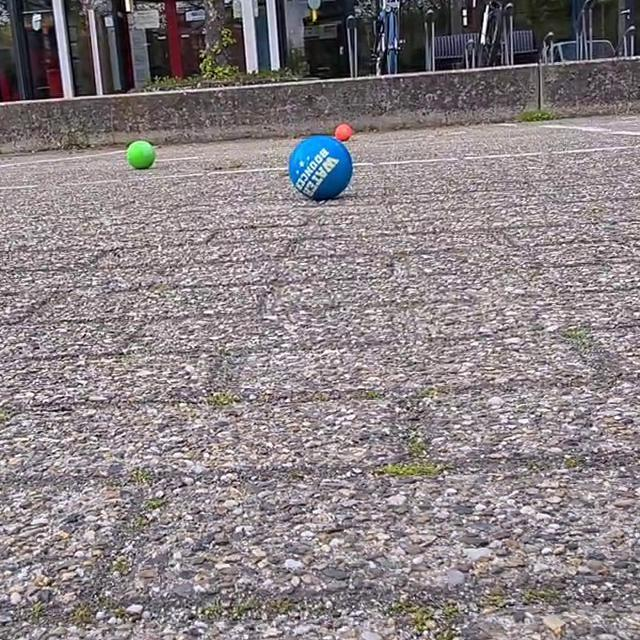ball: (128, 138, 156, 171), (334, 119, 354, 143)
